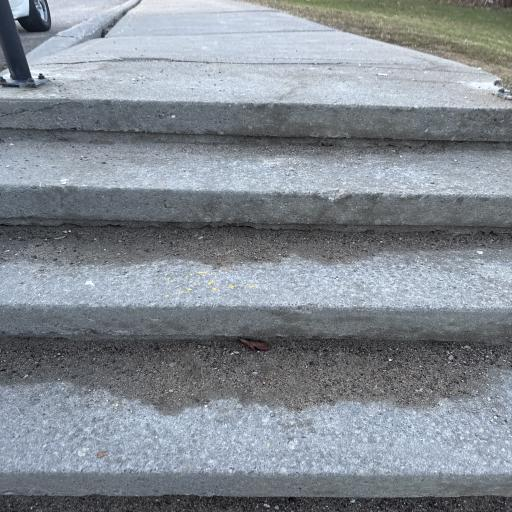Stairs: (0, 0, 512, 496)
